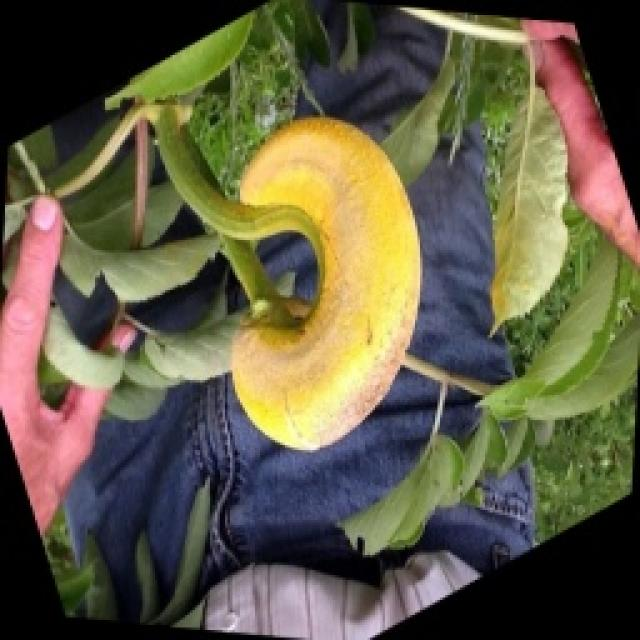Elderberry_rust: (225, 112, 423, 452)
